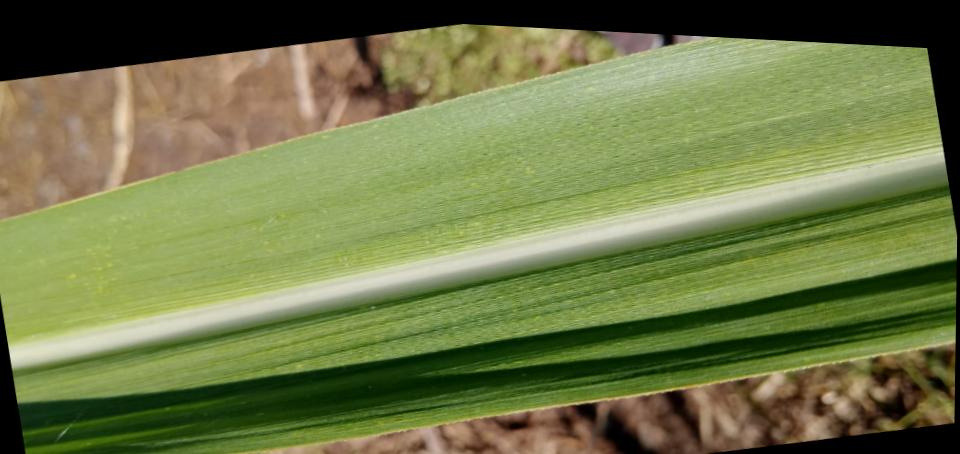Healthy: (0, 38, 957, 454)
